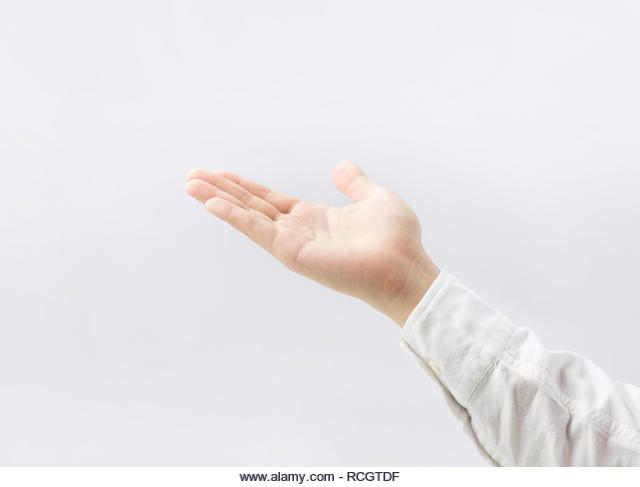non-diseased: (184, 154, 427, 305)
